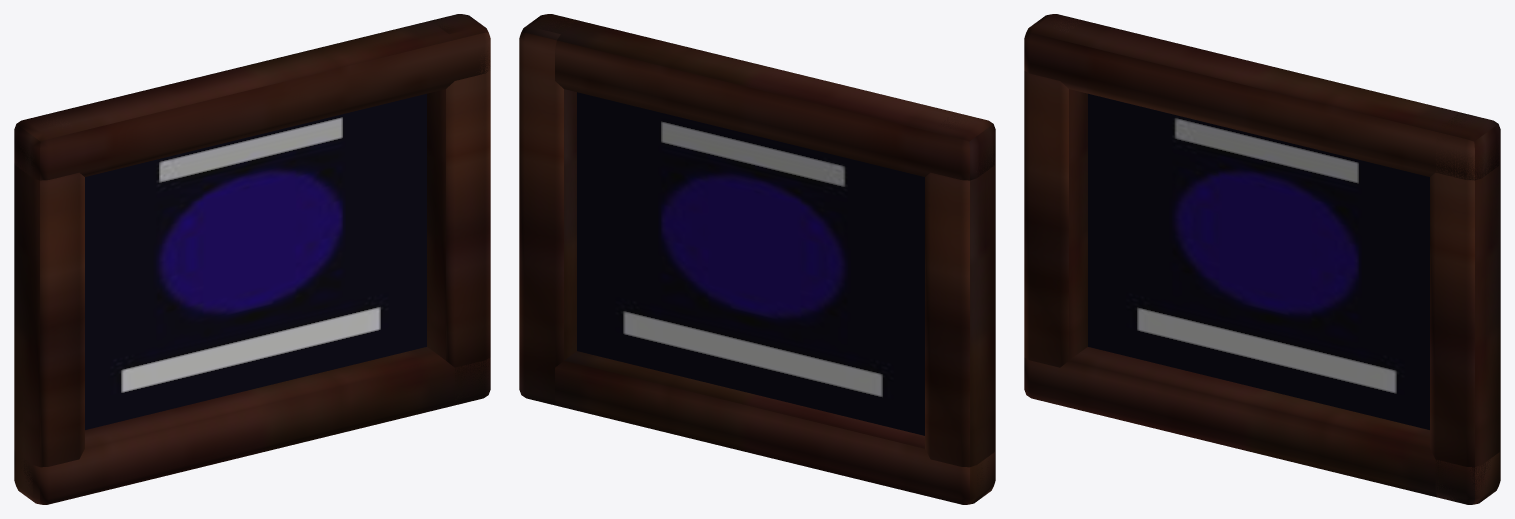
File: mantel_photo_b.glb
3 views of the same model, side by side, from view 1: azimuth 30°, elevation 25°; view 2: azimuth 150°, elevation 25°; view 3: azimuth 330°, elevation 25° (orthographic).
Parts seen in each view (by area): view 1: Prop dark wood, Photo; view 2: Prop dark wood, Photo; view 3: Prop dark wood, Photo.
Boxes of the visible parts, x1,y1,x2,y2 form: Prop dark wood: (14, 14, 490, 504); Photo: (85, 93, 426, 429); Prop dark wood: (519, 14, 995, 504); Photo: (577, 92, 924, 435); Prop dark wood: (1024, 14, 1500, 504); Photo: (1088, 93, 1429, 429).
Bounding box in the file's own units: 0.18 × 0.14 × 0.02.
2 materials, 2 textured.
